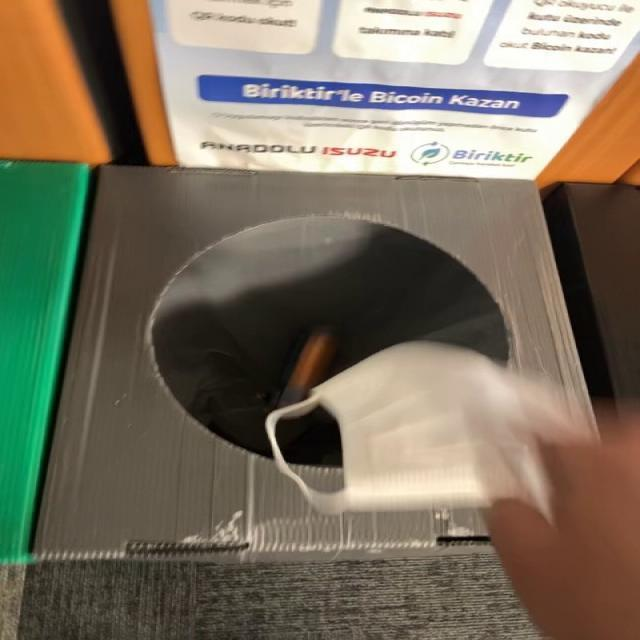Bin: (33, 168, 590, 562), (35, 168, 588, 561)
Metal: (277, 328, 337, 408)
